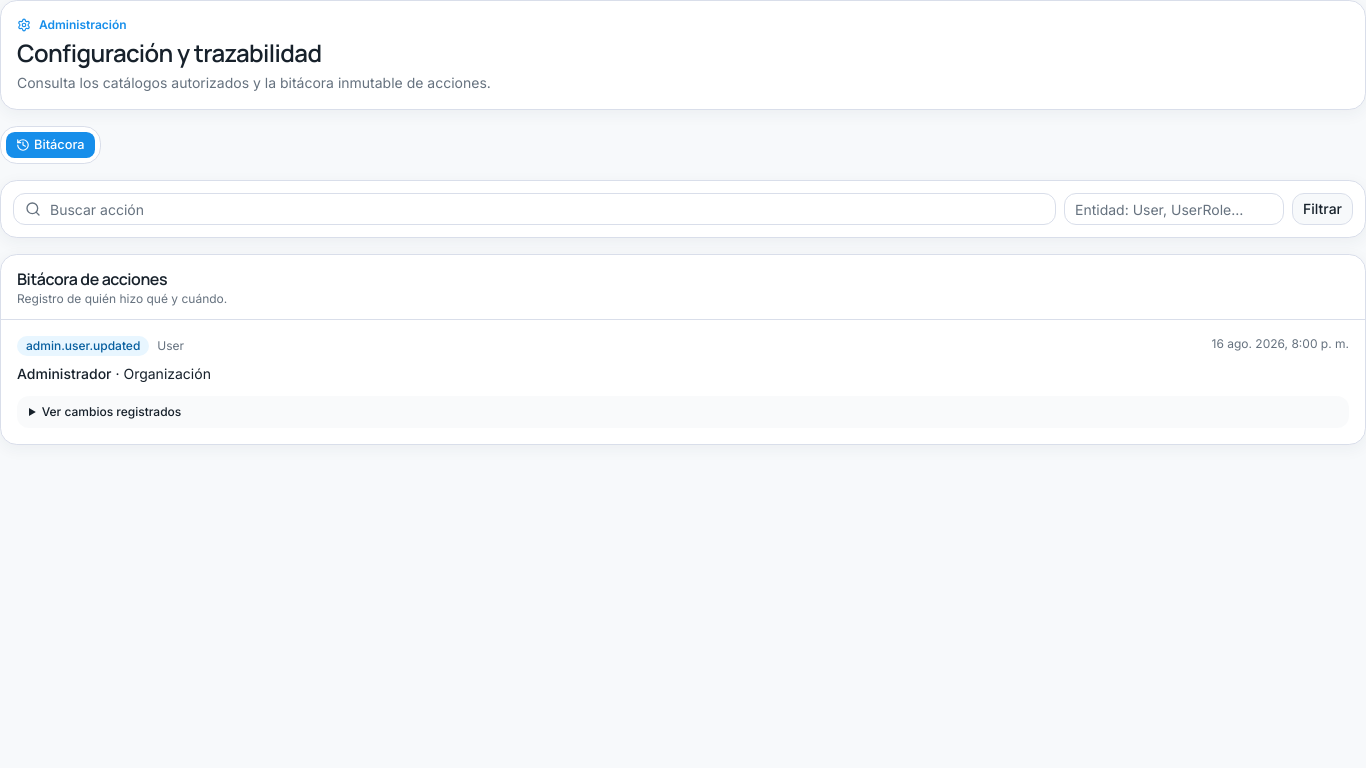
Test: AdminConfigurationWorkspace › muestra la bitácora a quien tiene audit.read sin exponer catálogos
This screenshot has width=1366, height=768.
Expected: the text "admin.user.updated" is shown, [17,336,149,356]
Click the heading "Ver cambios registrados".
click(112, 412)  # box [42,404,181,419]
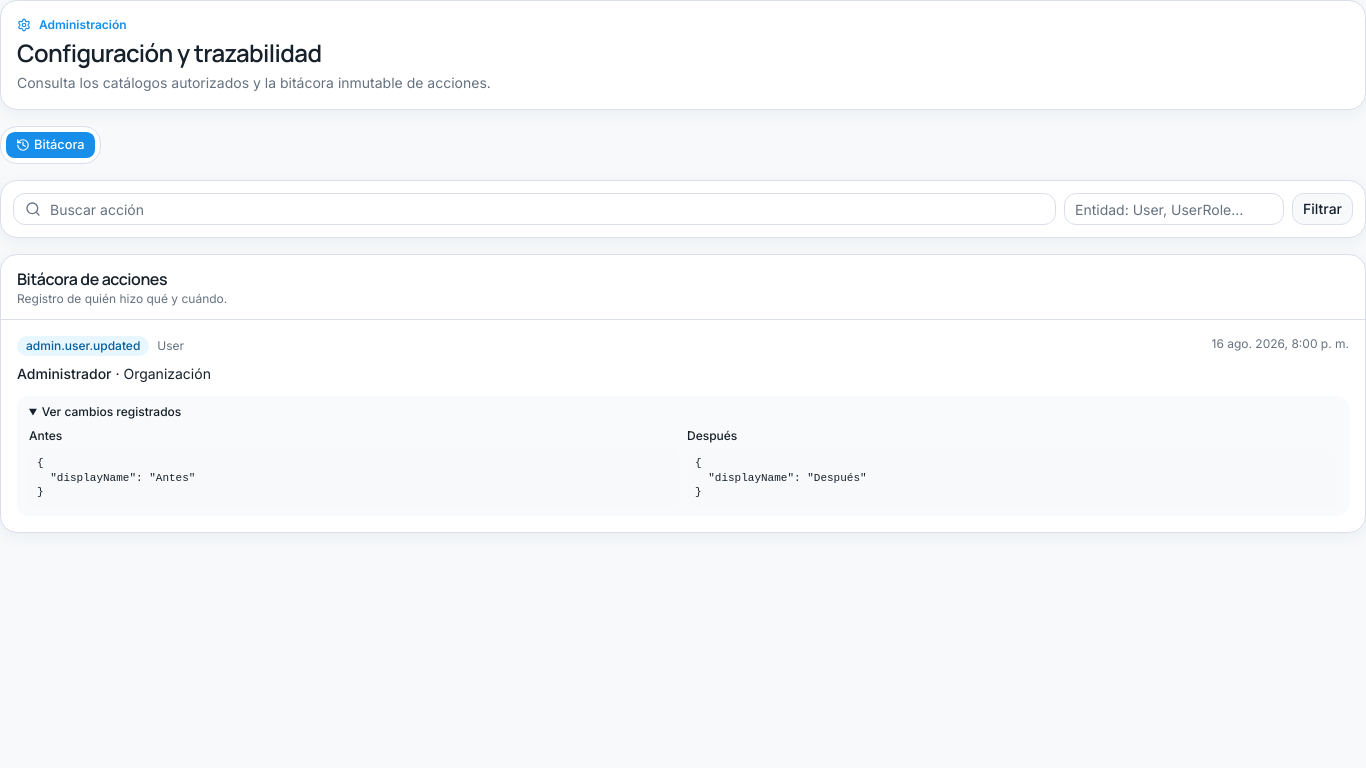
Now the text "Después" is shown, box [687,428,737,443]
